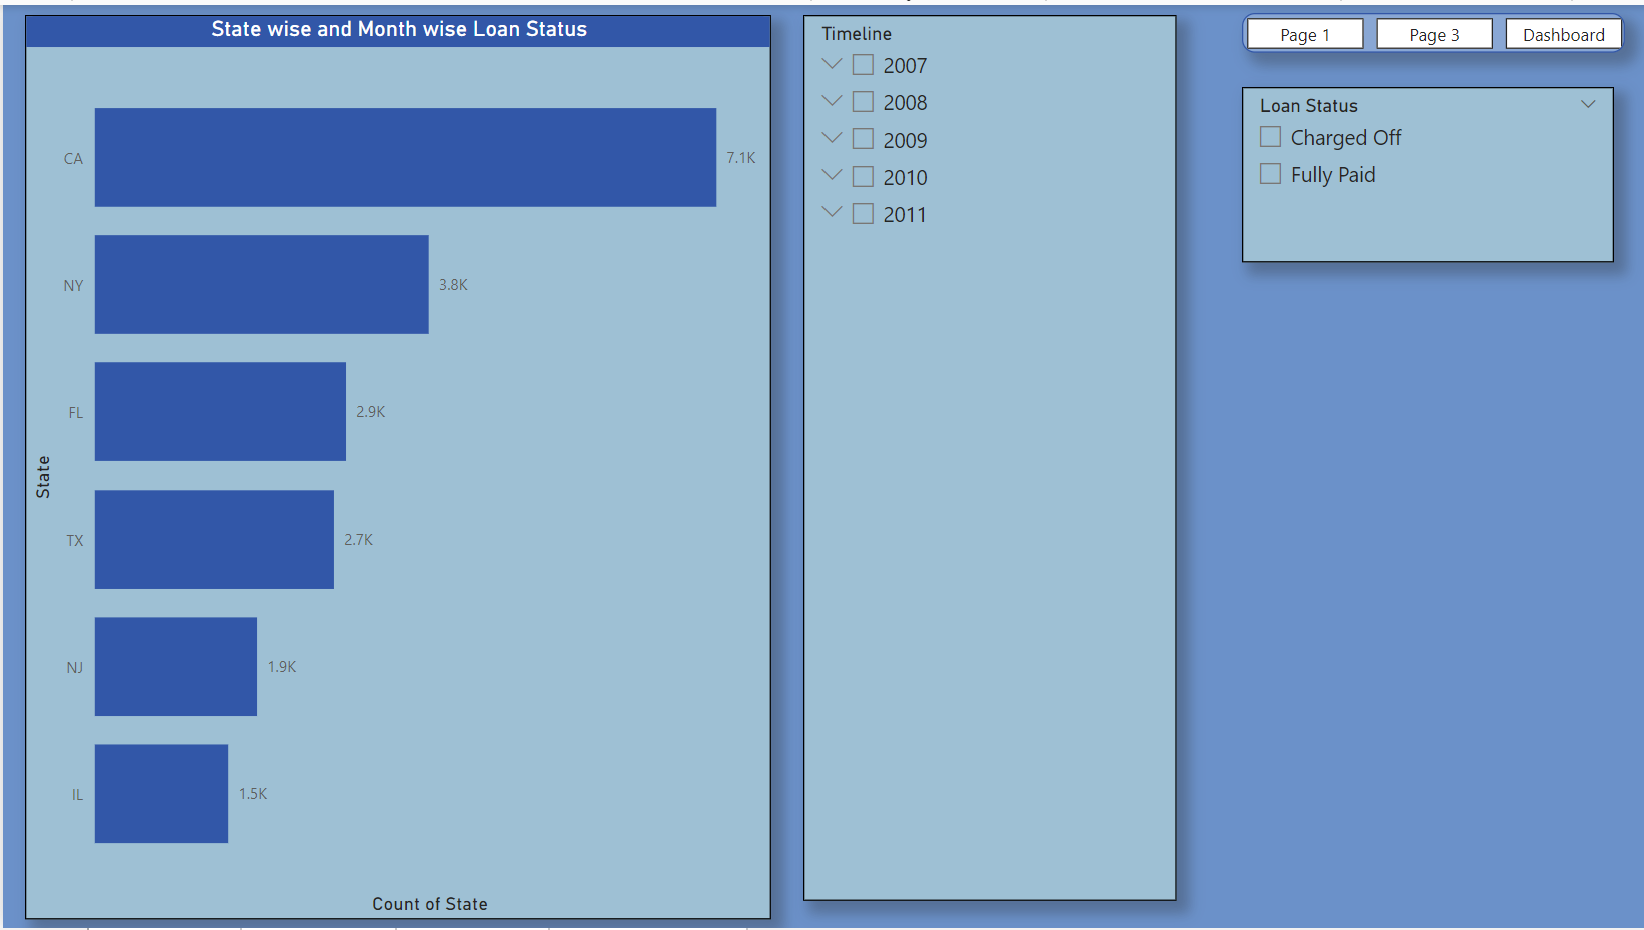

This screenshot's page, from the dashboard's own definition file:
{"tool":"powerbi","page":{"name":"Page 2","canvas":[1280,720],"ordinal":1},"visuals":[{"type":"clusteredBarChart","title":"State wise and Month wise Loan Status","fields":{"Category":["lending_club.addr_state"],"Y":["CountNonNull(lending_club.loan_status)"]},"box":[17,8.5,582.4,705.4],"z":0},{"type":"slicer","fields":{"Values":["lending_club.issue_d.Variation.Date Hierarchy.Year","lending_club.issue_d.Variation.Date Hierarchy.Month"]},"box":[624.3,8.5,291.2,691],"z":1000},{"type":"slicer","fields":{"Values":["lending_club.loan_status"]},"box":[967.2,64.8,290.6,136.8],"z":2000},{"type":"pageNavigator","box":[967.2,5.9,299.1,30.8],"z":3000}]}

Visuals, with their boxes in screenshot pixels (x1, y1, x2, y2), scaled from the page's 1280x720 canvas onto the 1644x930 screenshot:
"State wise and Month wise Loan Status" clusteredBarChart: select_region(22, 11, 770, 922)
slicer - lending_club.issue_d.Variation.Date Hierarchy.Year x lending_club.issue_d.Variation.Date Hierarchy.Month: select_region(802, 11, 1176, 904)
slicer - lending_club.loan_status: select_region(1242, 84, 1615, 260)
pageNavigator: select_region(1242, 8, 1626, 47)
